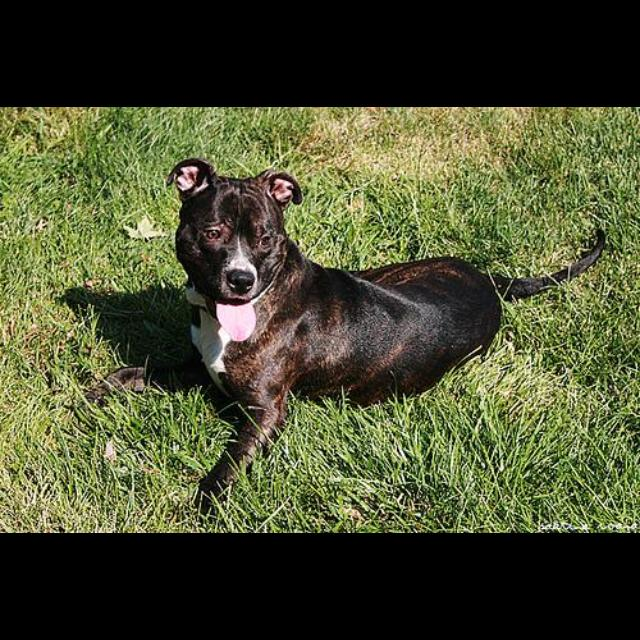amstaff: (86, 158, 606, 516)
